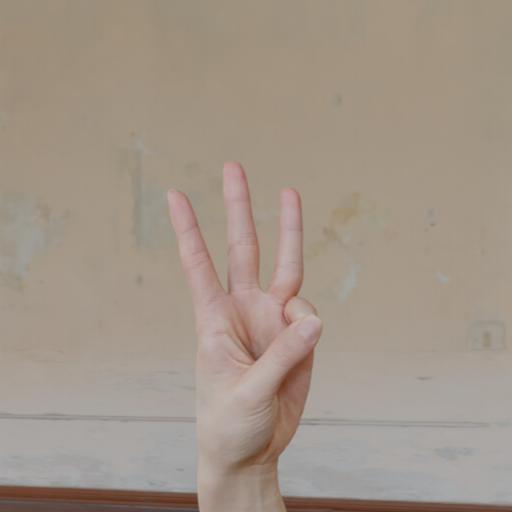W: (162, 156, 326, 475)
